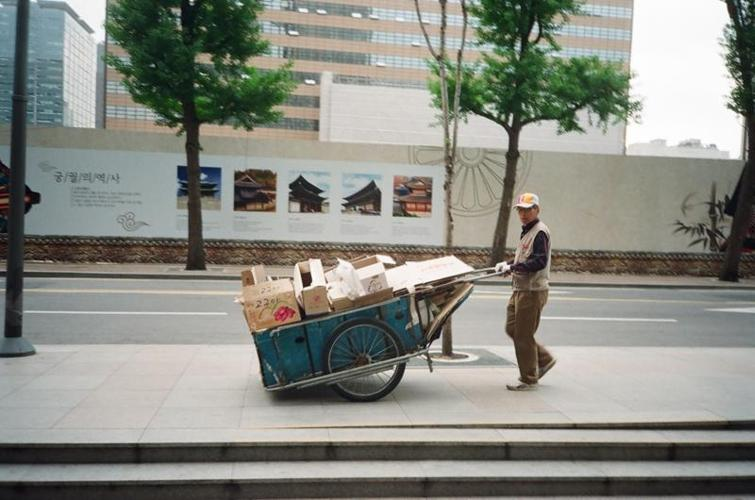person: (495, 189, 559, 392)
